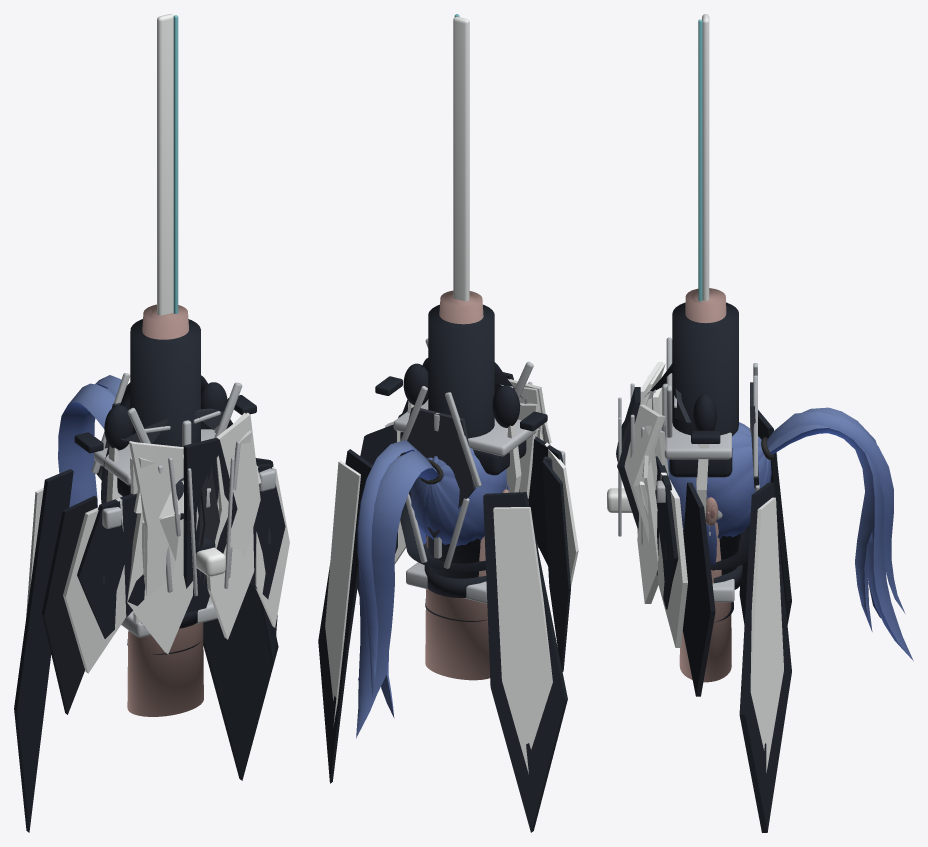
The model's file is heroine-blender.glb.
The picture shows the model from 3 angles, left to right: view 1: azimuth 30°, elevation 25°; view 2: azimuth 150°, elevation 25°; view 3: azimuth 270°, elevation 25°; orthographic projection. The views are drawn at different scales.
Visible parts, largest first — view 1: RearTailV40_L, RearTailV40_R, ThighL_core, ThighBootTopL, HipPetalV40_L, SwordBlade, SplitUnderV40_L, PorcelainShellV68_L, HairPremiumV185_Adventurer, CenterCorsetV68, PorcelainShellV68_R, FrontCenterV40_L (+17 smaller); view 2: HairPremiumV185_Adventurer, RearTailInlayV40_L, ThighBootTopL, RearTailV40_L, ThighL_core, SwordBlade, RearTailInlayV40_R, RearTailV40_R, SplitUnderV40_L, BackHarnessKite, HipPetalV40_L, HipBelt (+13 smaller); view 3: HairPremiumV185_Adventurer, ThighBootTopL, RearTailInlayV40_R, RearTailV40_R, SplitUnderV40_R, ThighL_core, SwordBlade, OuterPetalV40_R, PorcelainShellV68_R, FrontCenterV40_R, HipPetalV40_R, RearTailV40_L (+6 smaller).
Boxes of the visible parts, x1,y1,x2,y2 form: RearTailV40_L: (14,469,73,832); RearTailV40_R: (203,583,278,780); ThighL_core: (127,304,203,716); ThighBootTopL: (130,319,200,446); HipPetalV40_L: (77,493,144,638); SwordBlade: (157,14,173,315); SplitUnderV40_L: (41,495,97,714); PorcelainShellV68_L: (129,441,198,628); HairPremiumV185_Adventurer: (58,375,122,507); CenterCorsetV68: (183,437,237,612); PorcelainShellV68_R: (208,412,260,602); FrontCenterV40_L: (127,513,193,654); HairPremiumV185_Adventurer: (356,440,509,738); RearTailInlayV40_L: (493,507,552,773); ThighBootTopL: (428,304,494,578); RearTailV40_L: (483,492,567,832); ThighL_core: (425,290,490,680); SwordBlade: (453,16,469,301); RearTailInlayV40_R: (325,460,360,726); RearTailV40_R: (318,449,372,783); SplitUnderV40_L: (542,459,570,671); BackHarnessKite: (400,407,475,538); HipPetalV40_L: (528,436,563,565); HipBelt: (393,399,536,456); HairPremiumV185_Adventurer: (661,407,913,661); ThighBootTopL: (672,302,738,574); RearTailInlayV40_R: (750,497,783,772); RearTailV40_R: (739,482,791,832); SplitUnderV40_R: (682,482,715,696); ThighL_core: (679,288,731,682); SwordBlade: (702,14,709,300); OuterPetalV40_R: (657,472,687,647); PorcelainShellV68_R: (624,404,662,542); FrontCenterV40_R: (637,460,658,603); HipPetalV40_R: (655,456,678,609); RearTailV40_L: (739,410,791,625).
Size of the model in its own units: 0.7 by 2.08 by 0.7538.
Materials: 18 (8 with a texture image).
